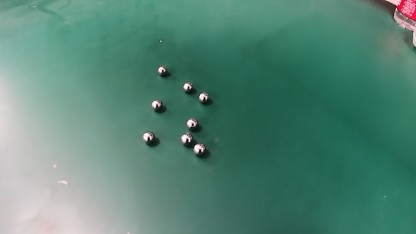ironball: (180, 132, 193, 145), (193, 143, 205, 156), (186, 118, 198, 130), (142, 131, 154, 143), (198, 92, 209, 103), (151, 99, 162, 110), (182, 82, 193, 92), (157, 65, 167, 75)
